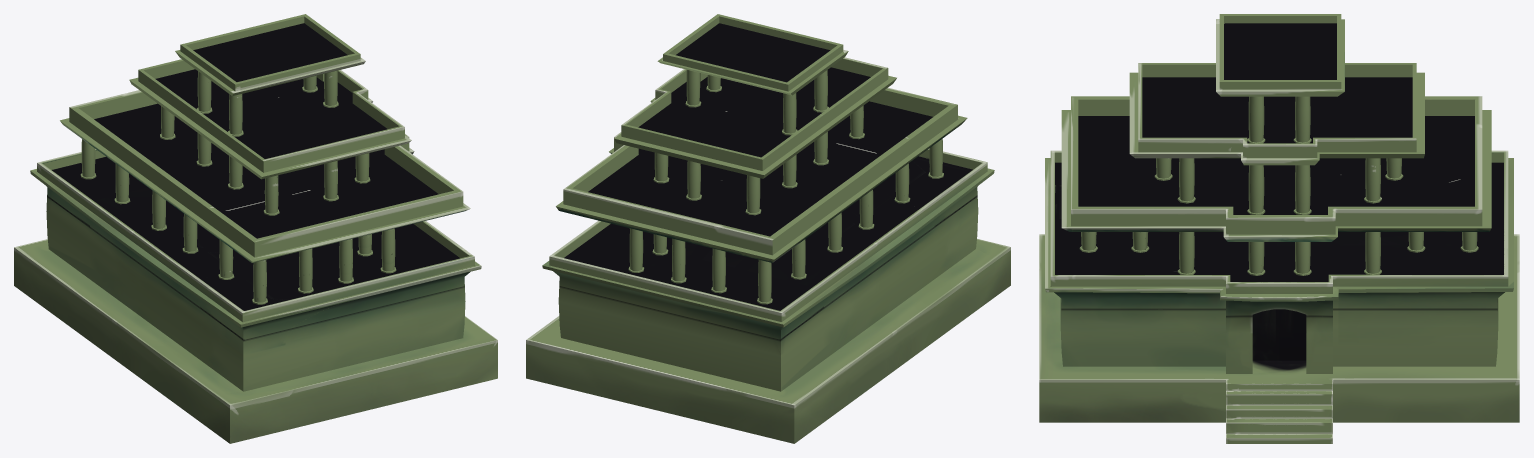
The picture shows the model from 3 angles, left to right: view 1: azimuth 30°, elevation 25°; view 2: azimuth 150°, elevation 25°; view 3: azimuth 270°, elevation 25°; orthographic projection. The views are drawn at different scales.
Visible parts, largest first — view 1: Nexus; view 2: Nexus; view 3: Nexus.
Boxes of the visible parts, <box> form: Nexus: <box>14,14,497,443</box>; Nexus: <box>526,14,1010,443</box>; Nexus: <box>1039,14,1519,443</box>.
Size of the model in its own units: 8.49 by 7.36 by 10.34.
Materials: 1 (1 with a texture image).
